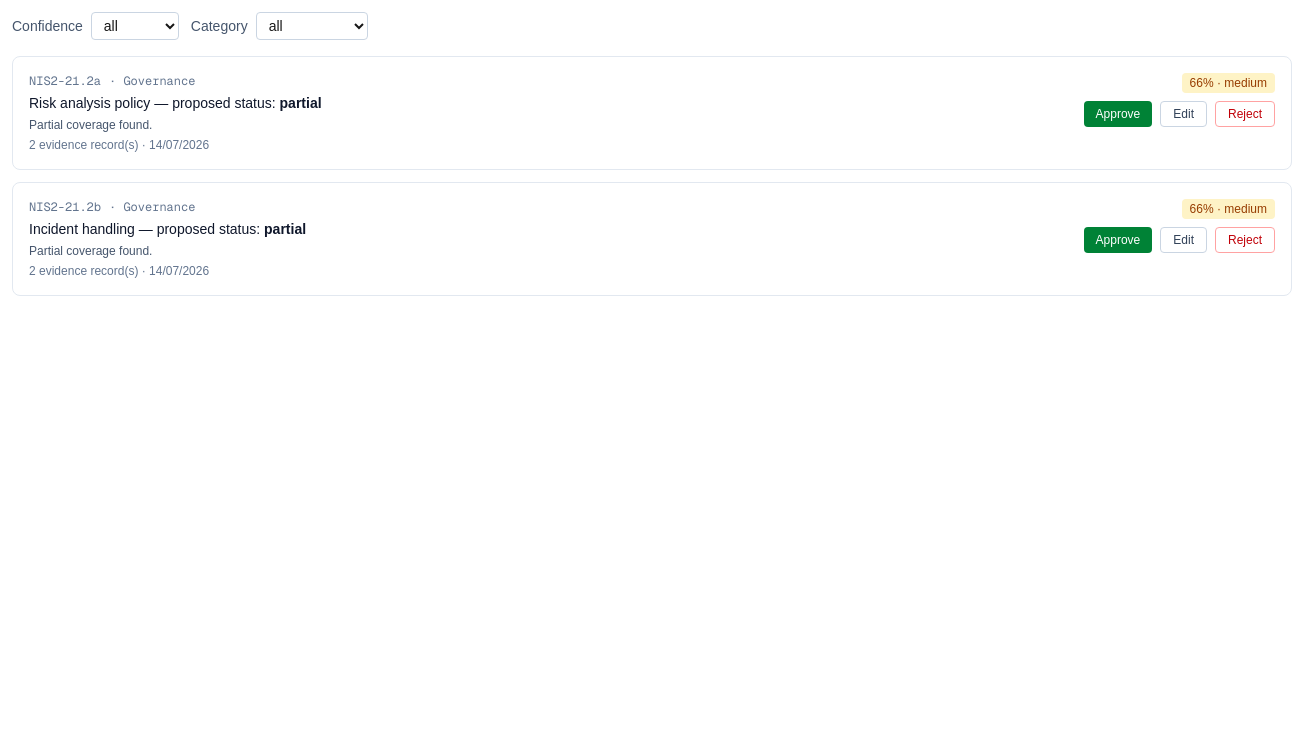
RecommendationList › a replaced row leaves the other rows actionable for their own recommendation
Click the button "Approve" in the row of "Risk analysis policy" at (1118, 114), box 1084,101 -> 1152,127
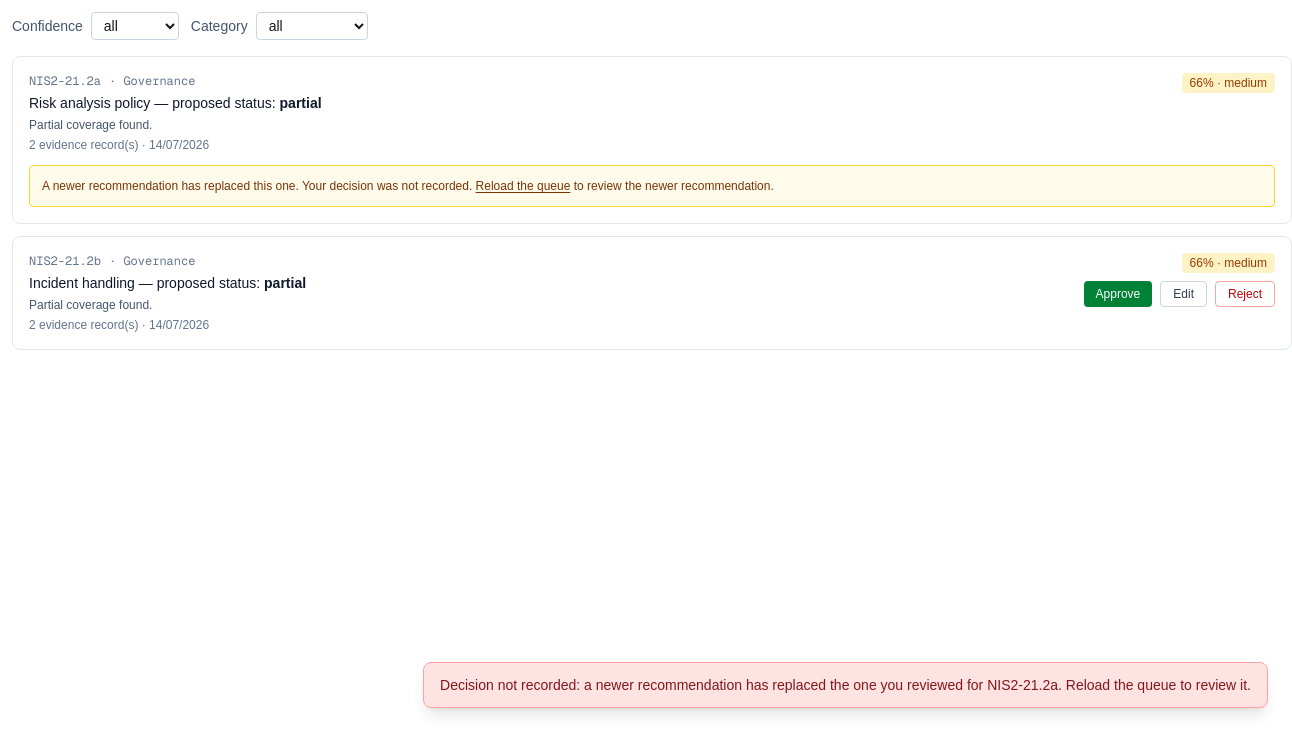
Expected: the link "Reload the queue" is shown, 476,179 -> 570,193
Click the button "Approve" at (1118, 294), box 1084,281 -> 1152,307
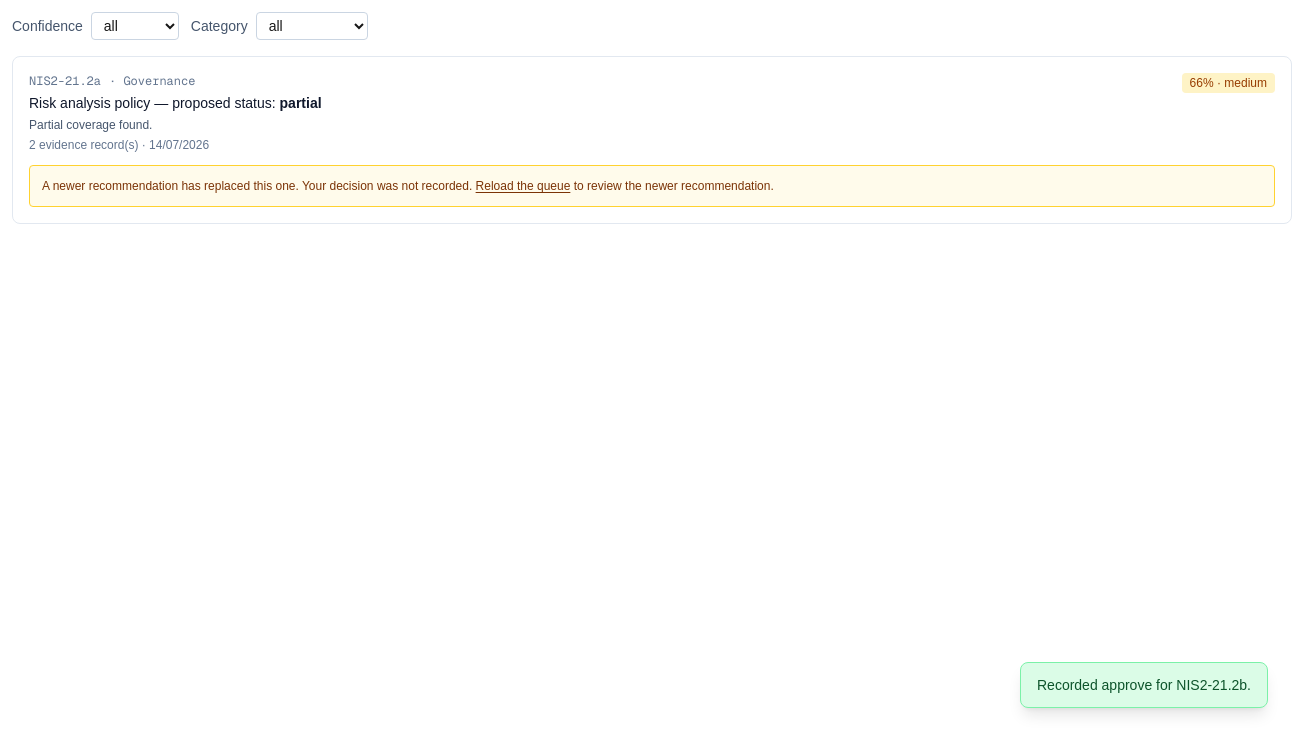
Expected: the list item with test id "recommendation-rec-1" is shown, 12,56 -> 1291,224
Expected: the text "Your decision was not recorded" is shown, 42,179 -> 472,193
Expected: the list item with test id "recommendation-rec-2" is gone
